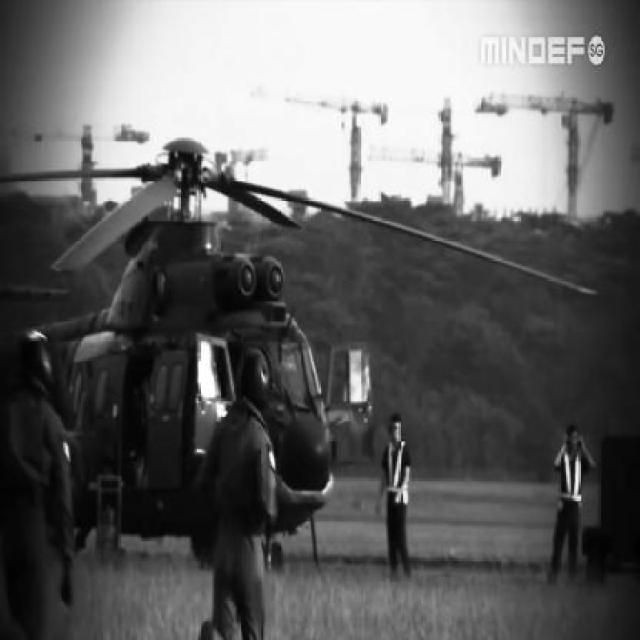Helicopter: (1, 135, 599, 568)
